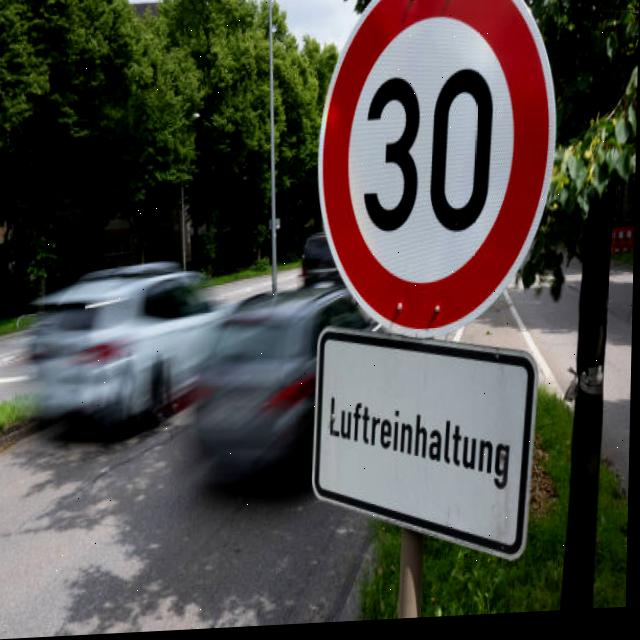Speed limit 30: (313, 1, 561, 349)
